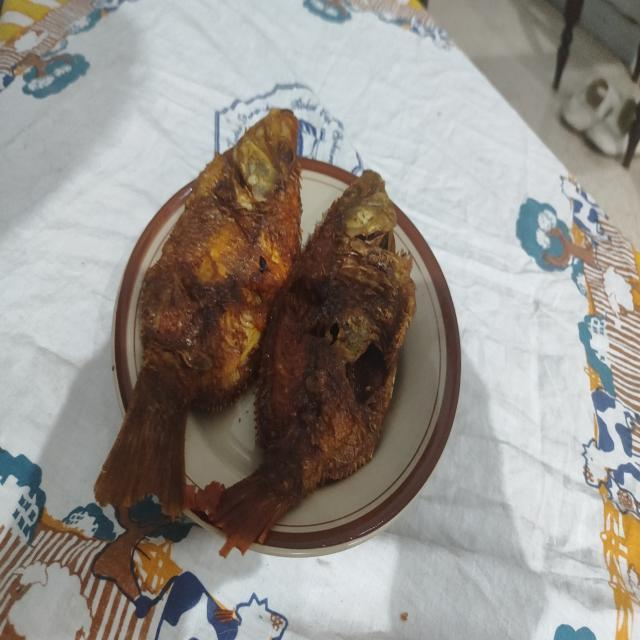ikan_mujair: (194, 170, 416, 557), (95, 109, 302, 518)
